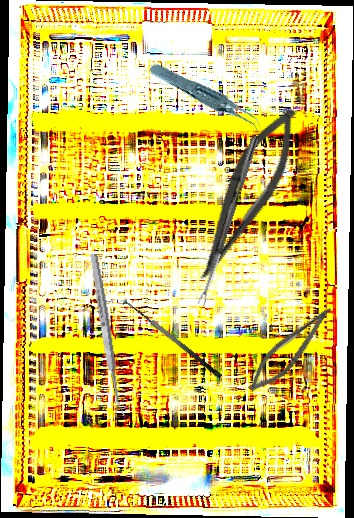Micro Scissor: (187, 96, 310, 293), (241, 296, 338, 401)
Spatula Surgical: (118, 295, 224, 388)
Surgical Spoon: (196, 134, 260, 306), (88, 253, 125, 418)
Tissue Forceps: (147, 43, 266, 155)
